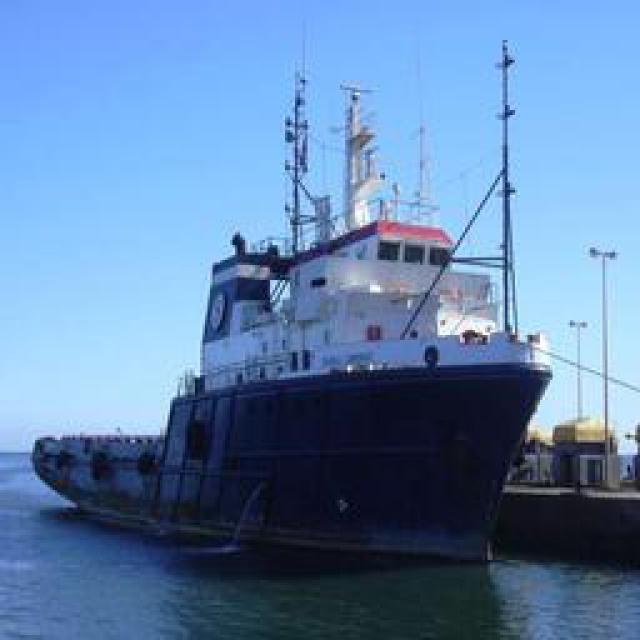Ship: (40, 27, 555, 567)
